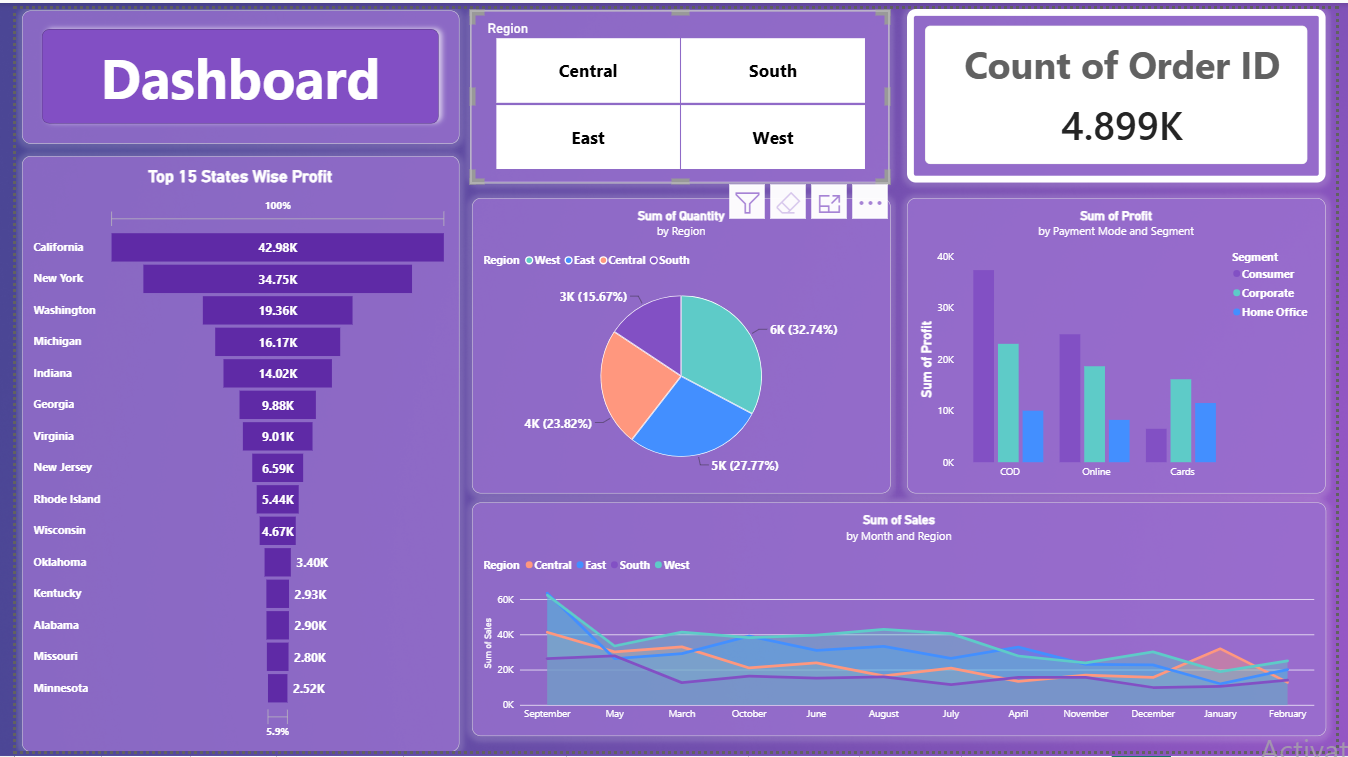

The page's visual inventory and layout, read from the dashboard file:
{"tool":"powerbi","page":{"name":"Dashboard","canvas":[1920,1080],"ordinal":8},"visuals":[{"type":"clusteredColumnChart","fields":{"Category":["Sheet1.Payment Mode"],"Series":["Sheet1.Segment"],"Y":["Sum(Sheet1.Profit)"]},"box":[1297,274.5,609.6,429.9],"z":0},{"type":"areaChart","fields":{"Category":["Sheet1.Month"],"Series":["Sheet1.Region"],"Y":["Sum(Sheet1.Sales)"]},"box":[663.1,718.9,1243.6,340],"z":1},{"type":"pieChart","fields":{"Category":["Sheet1.Region"],"Y":["Sum(Sheet1.Quantity)"]},"box":[663.1,274.5,609.6,429.9],"z":2},{"type":"funnel","title":"Top 15 States Wise Profit","fields":{"Category":["Sheet1.State"],"Y":["Sum(Sheet1.Profit)"]},"box":[9.7,213.7,636.4,867.1],"z":3},{"type":"cardVisual","fields":{"Data":["CountNonNull(Sheet1.Order ID)"]},"box":[1297,0,609.6,252.6],"z":4},{"type":"slicer","fields":{"Values":["Sheet1.Region"]},"box":[661.6,2.2,609.6,250.2],"z":5},{"type":"shape","box":[9.7,2.4,636.4,194.3],"z":6}]}

Visuals, with their boxes in screenshot pixels (x1, y1, x2, y2), scaled from the page's 1920x1080 canvas onto the 1348x757 screenshot:
clusteredColumnChart - Sheet1.Payment Mode x Sheet1.Segment: locate(911, 192, 1339, 494)
areaChart - Sheet1.Month x Sheet1.Region: locate(466, 504, 1339, 742)
pieChart - Sheet1.Region x Sum(Sheet1.Quantity): locate(466, 192, 894, 494)
"Top 15 States Wise Profit" funnel: locate(7, 150, 454, 756)
cardVisual - CountNonNull(Sheet1.Order ID): locate(911, 0, 1339, 177)
slicer - Sheet1.Region: locate(464, 2, 892, 177)
shape: locate(7, 2, 454, 138)
